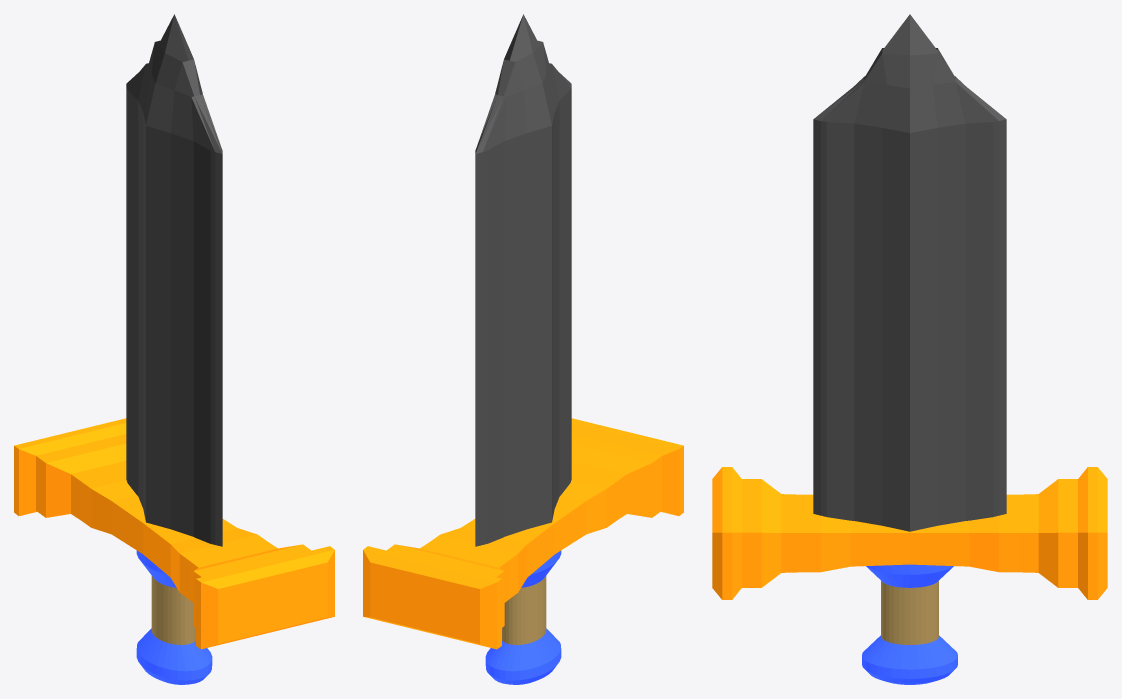
The model's file is dagger.fbx.
3 renders of one model, left to right at view 1: azimuth 30°, elevation 25°; view 2: azimuth 150°, elevation 25°; view 3: azimuth 270°, elevation 25°, orthographic.
Parts seen in each view (by area): view 1: Cylinder; view 2: Cylinder; view 3: Cylinder.
Part boxes in pixels (x1,y1,x2,y2): Cylinder: (14, 14, 334, 684); Cylinder: (363, 14, 683, 684); Cylinder: (712, 14, 1107, 684).
Size of the model in its own units: 57.77 by 271 by 147.
